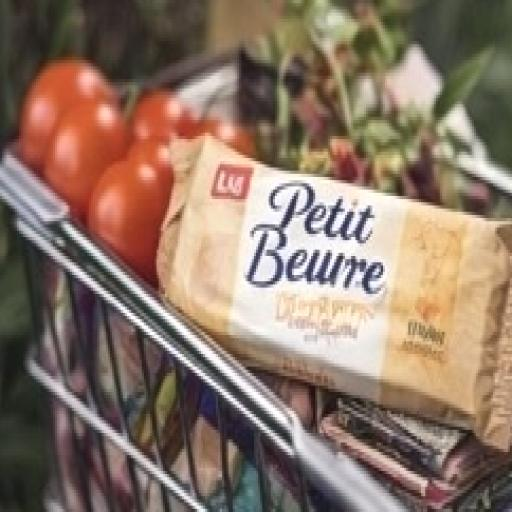petit_beurre: (135, 101, 512, 462)
